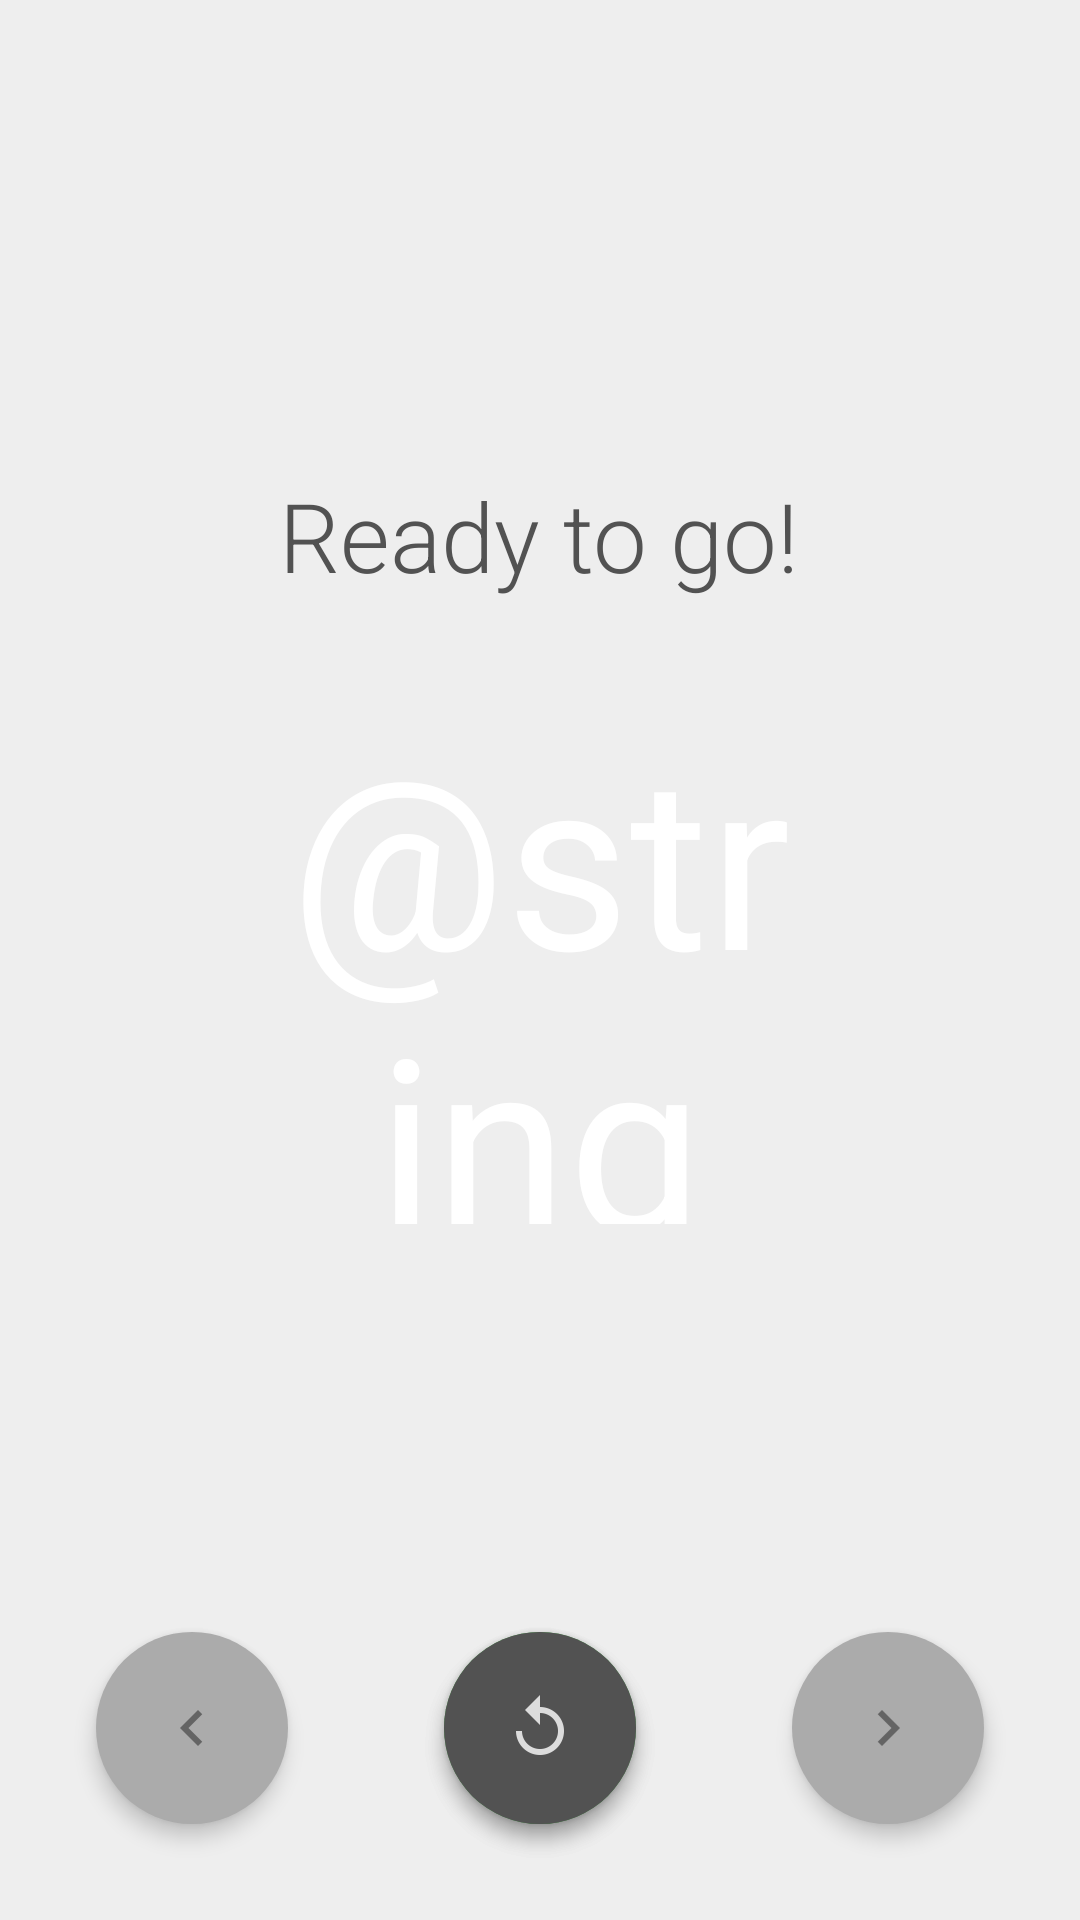

Where to tap for icons on this 1080w x 1920h app screen, as (x=x, y=y):
Decrement: (x=192, y=1728)
Increment: (x=888, y=1728)
reset: (x=540, y=1728)
